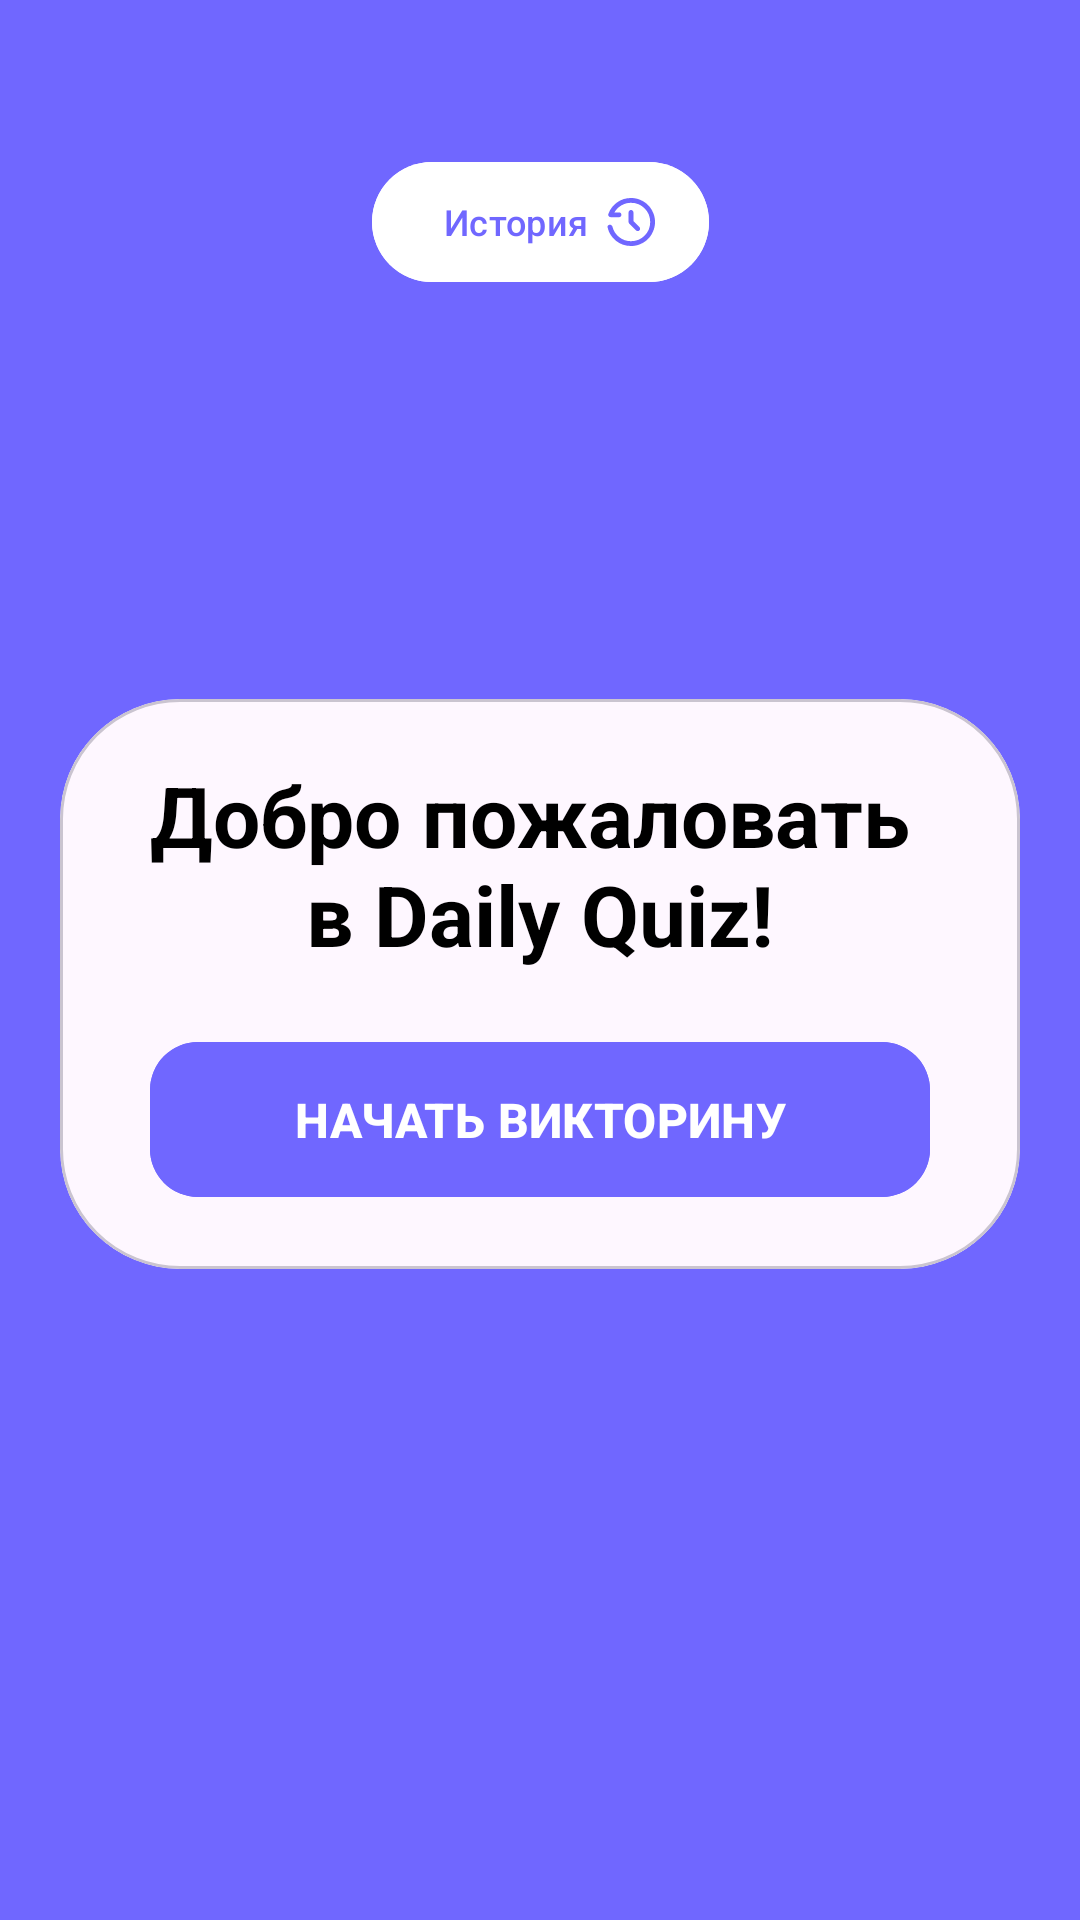

Icons on this 1080 x 1920 Android screen, each with its box as (x1, y1, x2, y2):
history timer: (607, 198, 655, 246)
